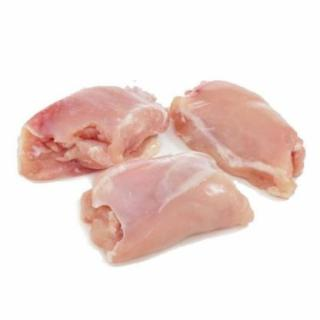Ayam: (80, 157, 255, 266), (172, 81, 306, 200), (18, 88, 170, 181)
